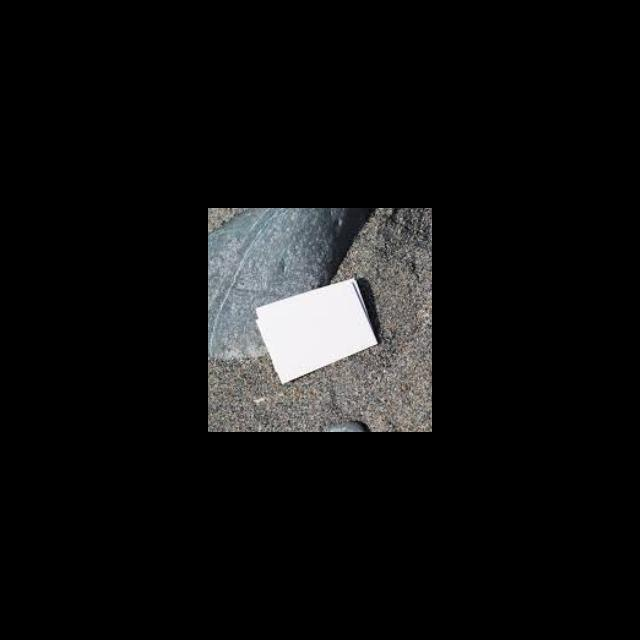paper: (237, 265, 391, 391)
